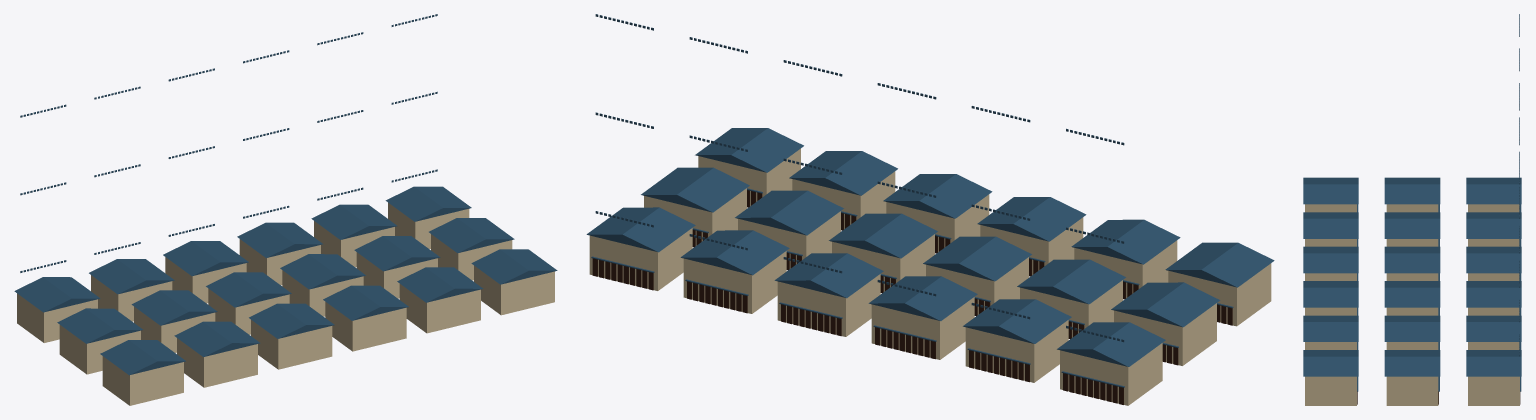
Rendered from harbor_warehouse_collection.obj.
3 views of the same model, side by side, from view 1: azimuth 30°, elevation 25°; view 2: azimuth 150°, elevation 25°; view 3: azimuth 270°, elevation 25° (orthographic). The views are drawn at different scales.
Parts seen in each view (by area): view 1: warehouse_12_body, warehouse_14_body, warehouse_15_body, warehouse_16_body, warehouse_13_body, warehouse_17_body, warehouse_3_roof, warehouse_13_roof, warehouse_4_roof, warehouse_5_roof, warehouse_14_roof, warehouse_15_roof (+24 smaller); view 2: warehouse_0_body, warehouse_2_body, warehouse_3_body, warehouse_5_body, warehouse_4_body, warehouse_1_body, warehouse_10_roof, warehouse_11_roof, warehouse_12_roof, warehouse_9_roof, warehouse_8_roof, warehouse_6_roof (+24 smaller); view 3: warehouse_6_roof, warehouse_8_roof, warehouse_11_body, warehouse_12_roof, warehouse_14_roof, warehouse_0_roof, warehouse_2_roof, warehouse_5_body, warehouse_17_body, warehouse_7_roof, warehouse_9_roof, warehouse_11_roof (+24 smaller).
Part boxes in pixels (x1=…): warehouse_12_body: x1=102, y1=356, x2=183, y2=405; warehouse_14_body: x1=251, y1=320, x2=332, y2=369; warehouse_15_body: x1=325, y1=302, x2=406, y2=351; warehouse_16_body: x1=399, y1=284, x2=480, y2=333; warehouse_13_body: x1=177, y1=338, x2=257, y2=387; warehouse_17_body: x1=474, y1=265, x2=554, y2=315; warehouse_3_roof: x1=237, y1=222, x2=323, y2=257; warehouse_13_roof: x1=174, y1=321, x2=260, y2=356; warehouse_4_roof: x1=311, y1=204, x2=397, y2=239; warehouse_5_roof: x1=385, y1=186, x2=471, y2=221; warehouse_14_roof: x1=249, y1=303, x2=334, y2=338; warehouse_15_roof: x1=323, y1=285, x2=408, y2=320; warehouse_0_body: x1=1060, y1=343, x2=1162, y2=405; warehouse_2_body: x1=871, y1=297, x2=974, y2=359; warehouse_3_body: x1=777, y1=274, x2=880, y2=336; warehouse_5_body: x1=589, y1=228, x2=692, y2=290; warehouse_4_body: x1=683, y1=251, x2=786, y2=313; warehouse_1_body: x1=965, y1=320, x2=1068, y2=382; warehouse_10_roof: x1=735, y1=190, x2=843, y2=235; warehouse_11_roof: x1=641, y1=167, x2=749, y2=212; warehouse_12_roof: x1=1165, y1=242, x2=1274, y2=287; warehouse_9_roof: x1=829, y1=213, x2=937, y2=258; warehouse_8_roof: x1=923, y1=236, x2=1031, y2=281; warehouse_6_roof: x1=1111, y1=282, x2=1220, y2=327; warehouse_6_roof: x1=1384, y1=177, x2=1440, y2=204; warehouse_8_roof: x1=1384, y1=246, x2=1440, y2=273; warehouse_11_body: x1=1386, y1=376, x2=1438, y2=405; warehouse_12_roof: x1=1303, y1=177, x2=1358, y2=204; warehouse_14_roof: x1=1303, y1=246, x2=1358, y2=273; warehouse_0_roof: x1=1466, y1=177, x2=1521, y2=204; warehouse_2_roof: x1=1466, y1=246, x2=1521, y2=273; warehouse_5_body: x1=1468, y1=376, x2=1519, y2=405; warehouse_17_body: x1=1305, y1=376, x2=1356, y2=405; warehouse_7_roof: x1=1384, y1=212, x2=1440, y2=238; warehouse_9_roof: x1=1384, y1=281, x2=1440, y2=307; warehouse_11_roof: x1=1384, y1=350, x2=1440, y2=376.
Size of the model in its own units: 127 by 58.5 by 59.
